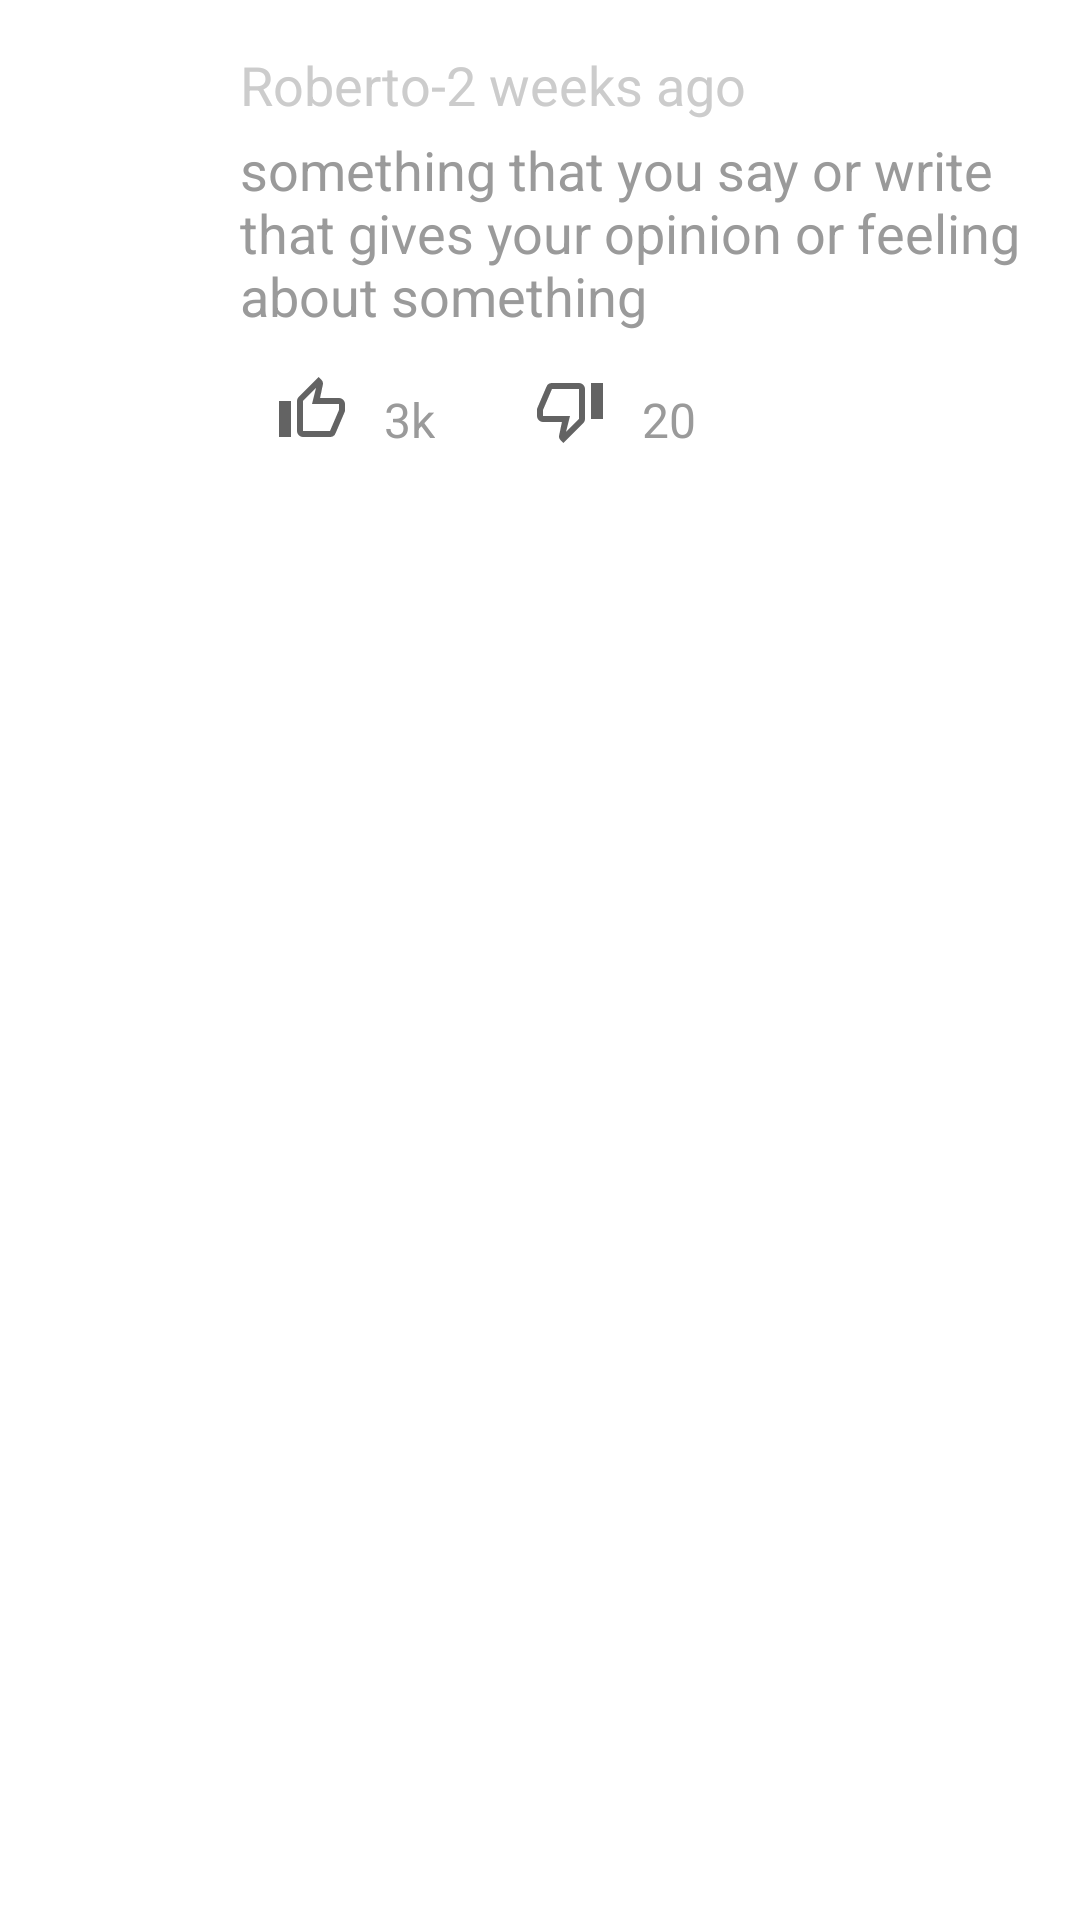

Named icons in this screenshot (1080x1920) and their centers, (x,y):
dislike: (570,413)
like: (312,407)
